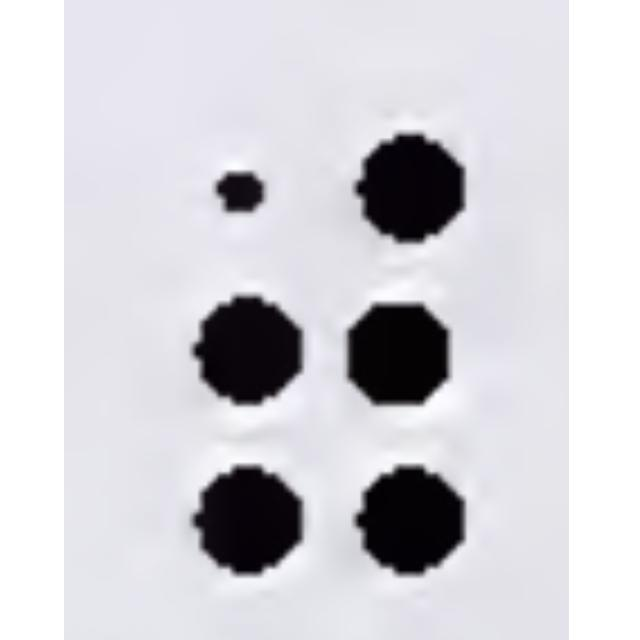one_cell_non_alphabet_na: (193, 132, 468, 572)
